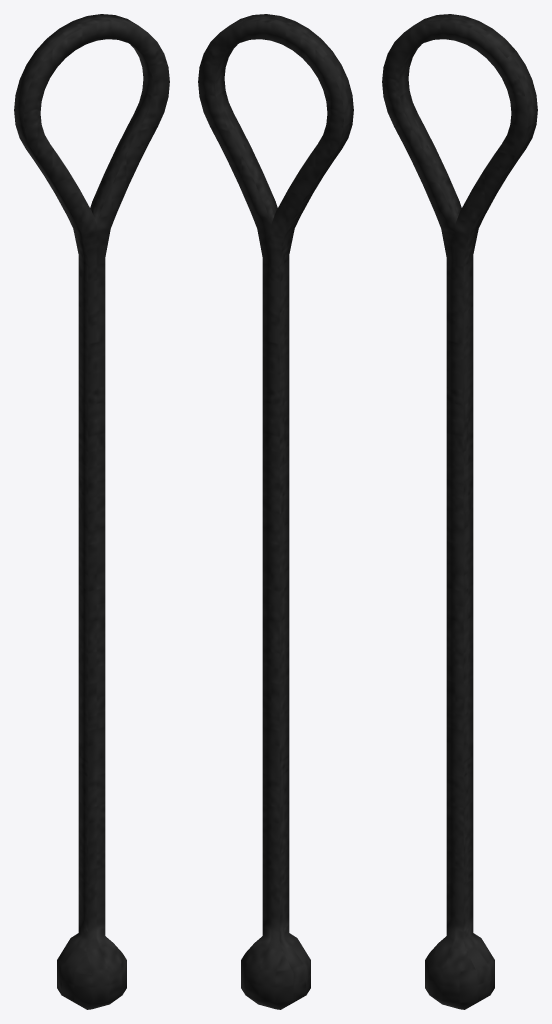
File: waterpas.fbx
The picture shows the model from 3 angles, left to right: view 1: azimuth 30°, elevation 25°; view 2: azimuth 150°, elevation 25°; view 3: azimuth 330°, elevation 25°; orthographic projection.
Visible parts, largest first — view 1: Окружность; view 2: Окружность; view 3: Окружность.
Part boxes in pixels (x1,y1,x2,y2): Окружность: (14,14,169,1009); Окружность: (198,14,353,1009); Окружность: (382,14,537,1009).
Bounding box in the file's own units: 11.42 × 73.87 × 4.75.
